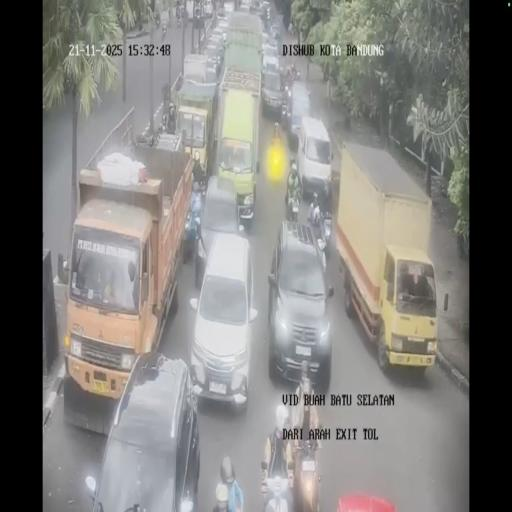car: (89, 352, 200, 509), (267, 220, 332, 387), (196, 174, 244, 280), (202, 33, 226, 81), (262, 50, 280, 83), (216, 15, 230, 38), (269, 23, 281, 45), (259, 1, 270, 19), (204, 0, 213, 17), (239, 0, 251, 12), (218, 2, 226, 17), (249, 0, 259, 12)
motorcycle: (261, 469, 293, 511), (319, 201, 333, 248), (280, 79, 292, 123), (284, 60, 300, 84), (288, 194, 300, 223), (182, 7, 188, 29), (176, 9, 182, 28), (162, 18, 168, 36), (155, 14, 160, 29)
truck: (336, 142, 436, 374), (173, 68, 218, 182), (222, 8, 264, 82)
